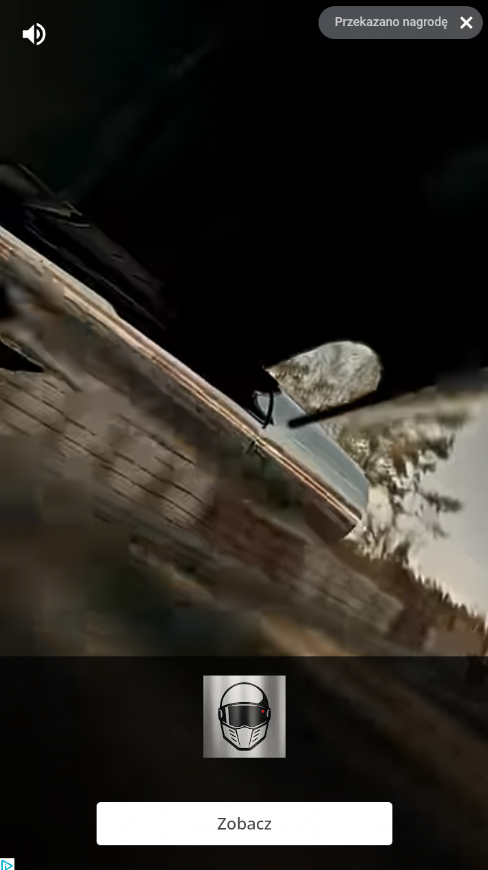close_button: (456, 14, 476, 33)
